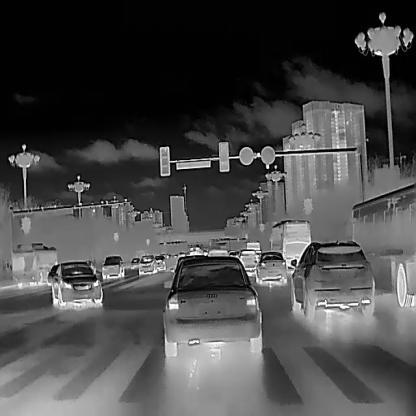car: (162, 252, 261, 357), (346, 182, 415, 307), (290, 239, 375, 316), (50, 261, 102, 307), (10, 241, 58, 288), (267, 217, 311, 267), (253, 250, 287, 284), (237, 248, 260, 274), (101, 255, 124, 279), (138, 254, 157, 274), (154, 254, 166, 270), (207, 247, 228, 256), (244, 240, 260, 251), (130, 256, 141, 269), (189, 245, 203, 254)
